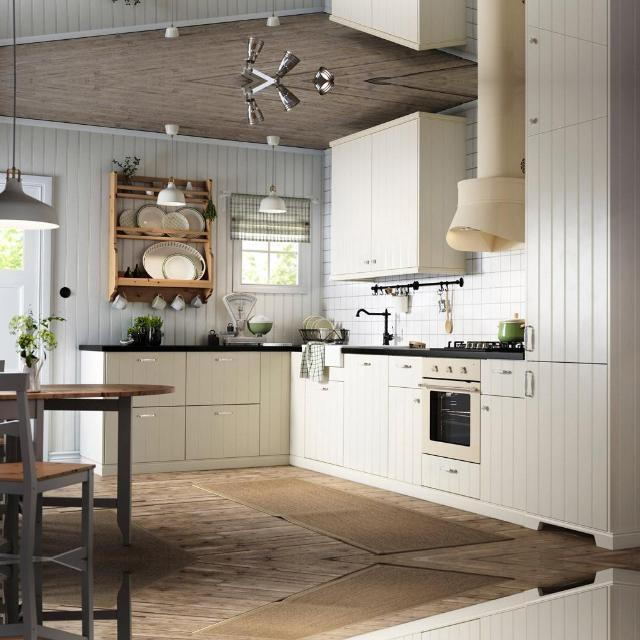obstacle: (0, 368, 176, 558), (0, 558, 176, 640)
